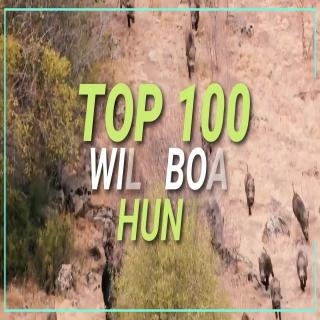Pig: (286, 184, 320, 248), (180, 25, 206, 85), (242, 152, 264, 220), (283, 248, 311, 288), (117, 0, 140, 29), (272, 277, 288, 315), (182, 0, 202, 29), (258, 252, 275, 285)
